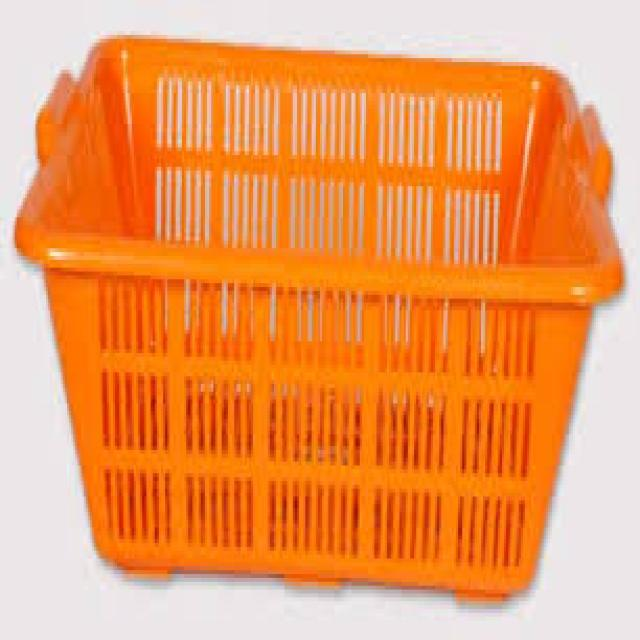basket: (0, 34, 638, 601)
